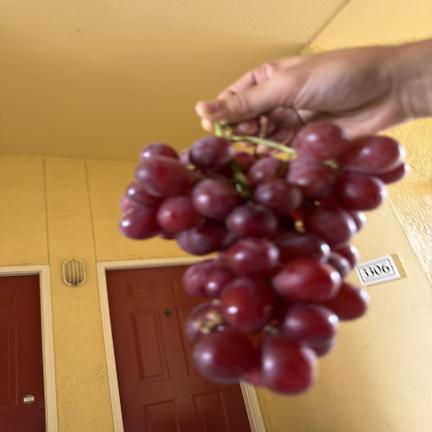grape_cluster: (119, 122, 407, 394)
